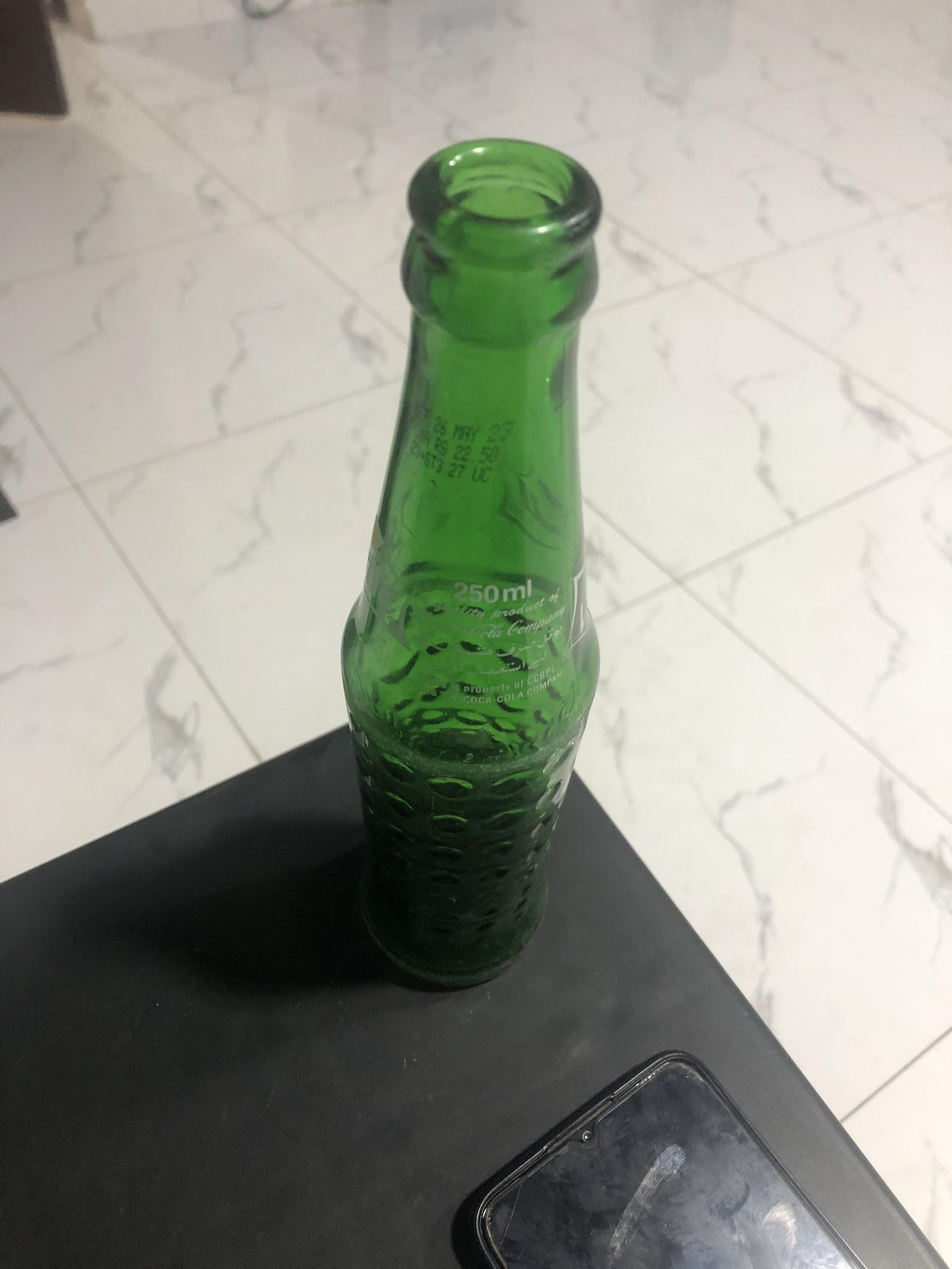bottle-glass: (335, 140, 601, 999)
